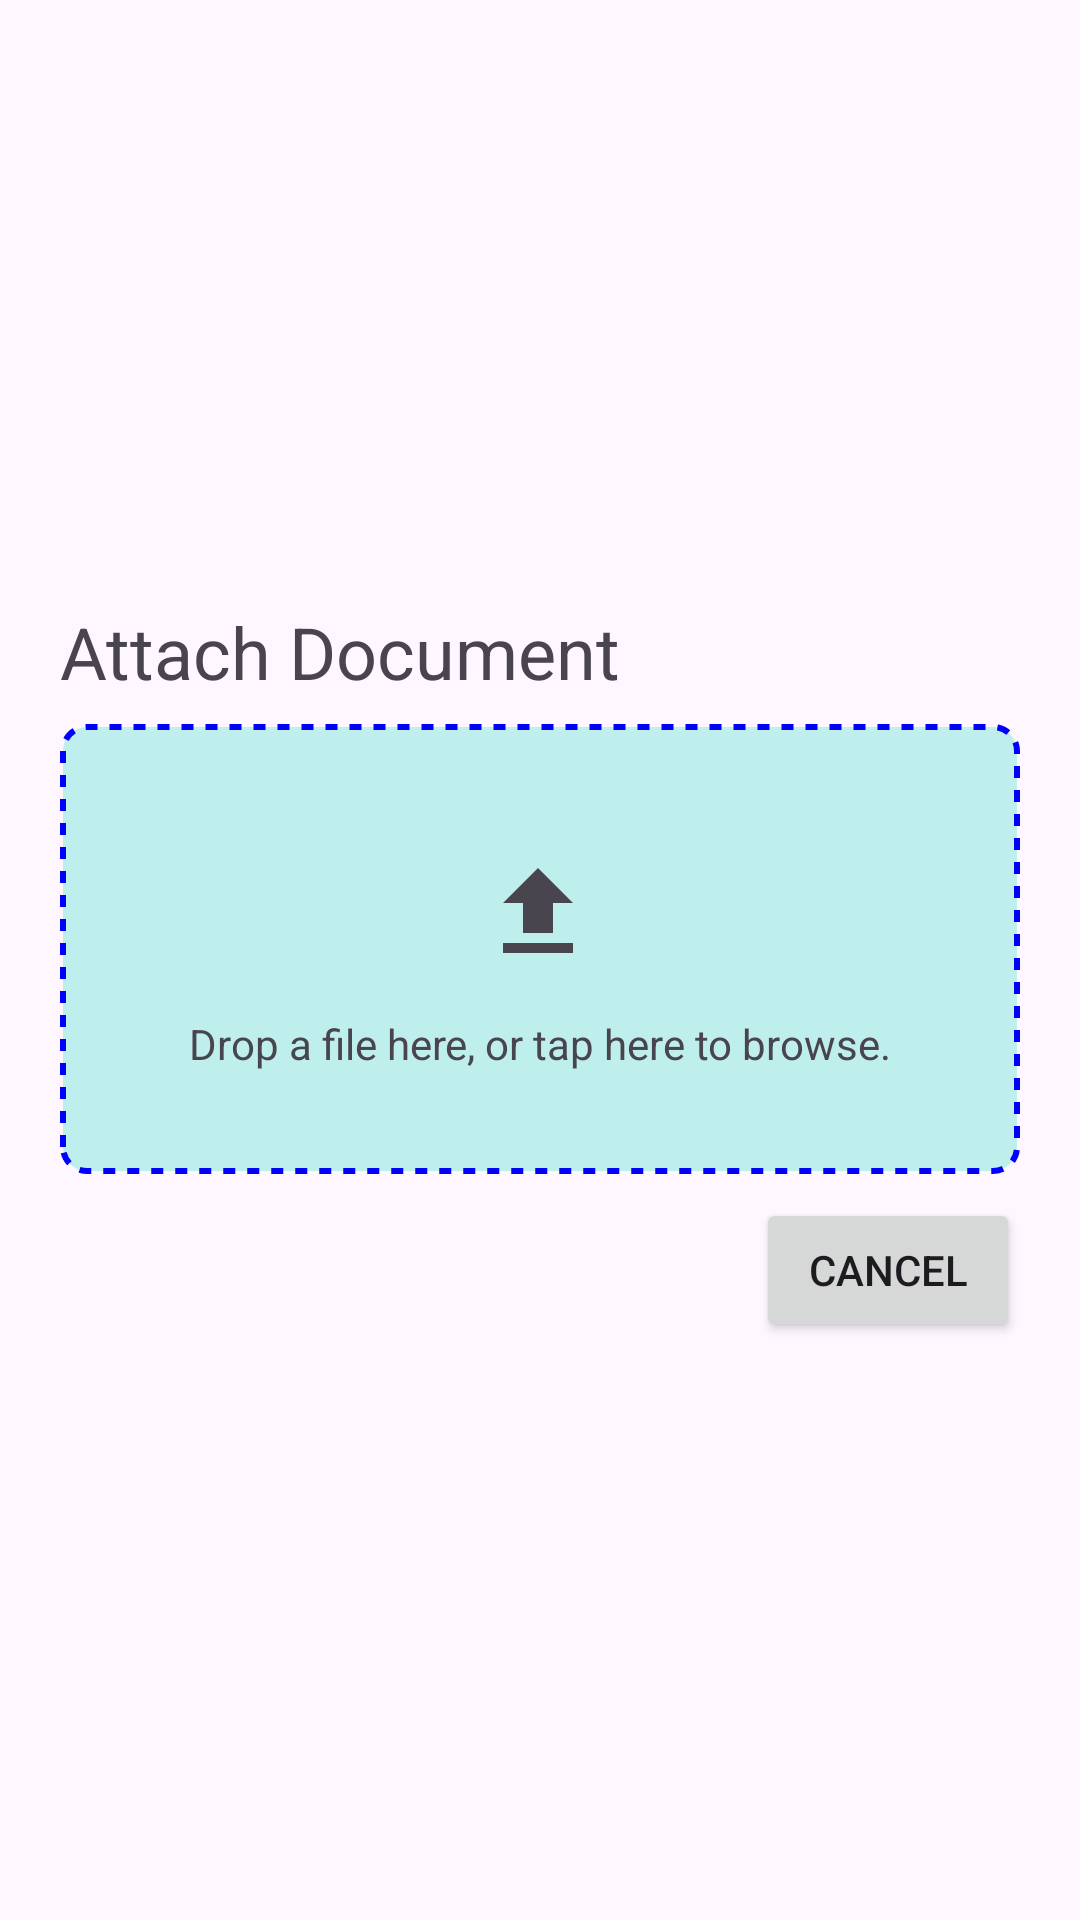

Screen size 1080*1920. Icon name, then its box in pixels as (x1, y1, x2, y2):
upload: (503, 868, 573, 953)
